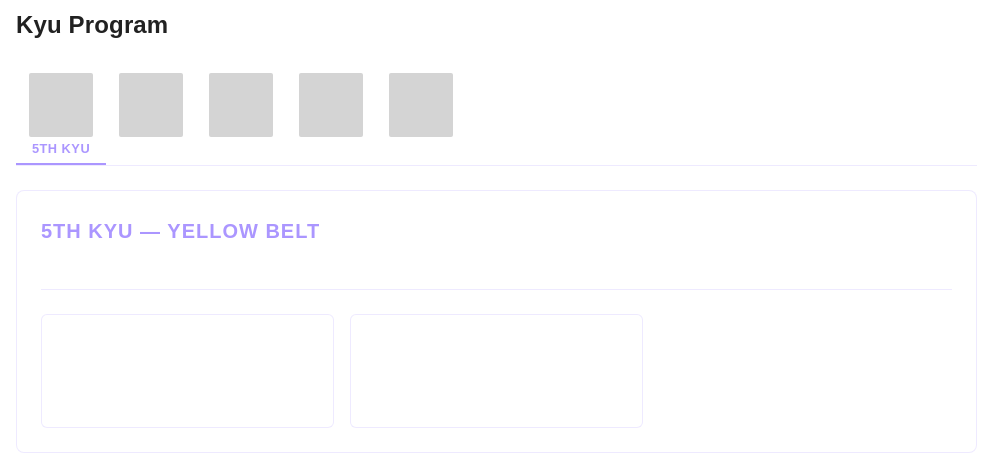
Test case: KyuProgram page › tab switching › shows 3rd Kyu level content when the tab is clicked
The image size is (994, 470).
Click the tab "3rd Kyu" at (241, 115), box [196, 65, 286, 165]
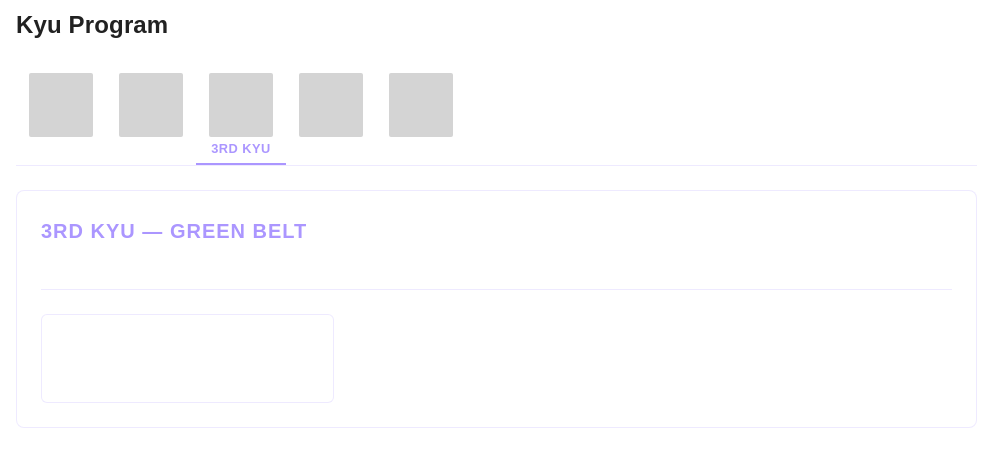
Expected: the heading "3RD KYU — GREEN BELT" is shown, [41, 220, 307, 242]
